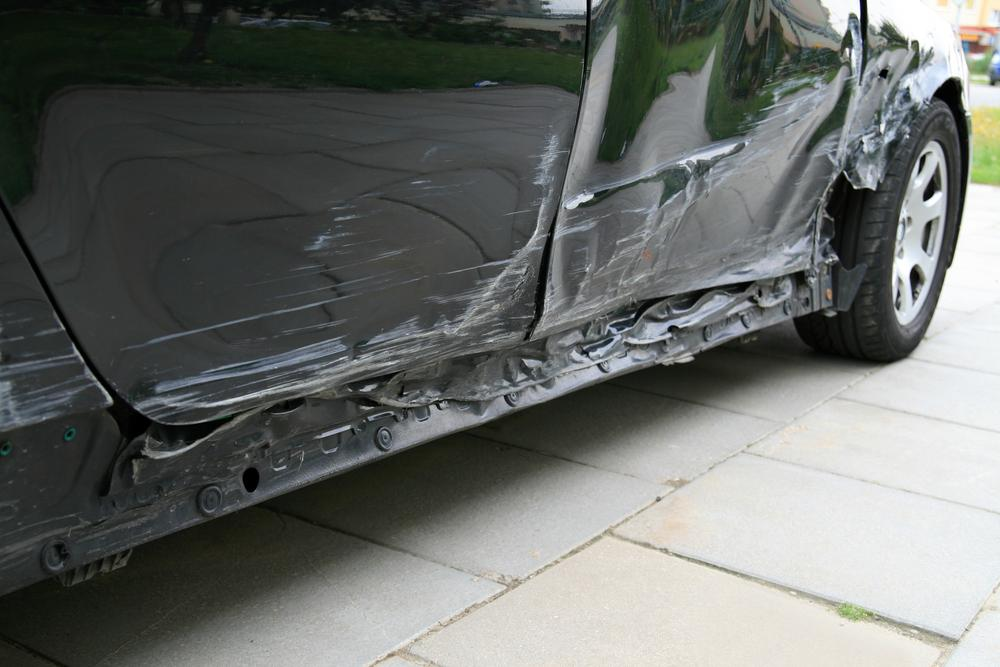scratch: (102, 130, 564, 422), (522, 54, 847, 341), (0, 302, 110, 430)
